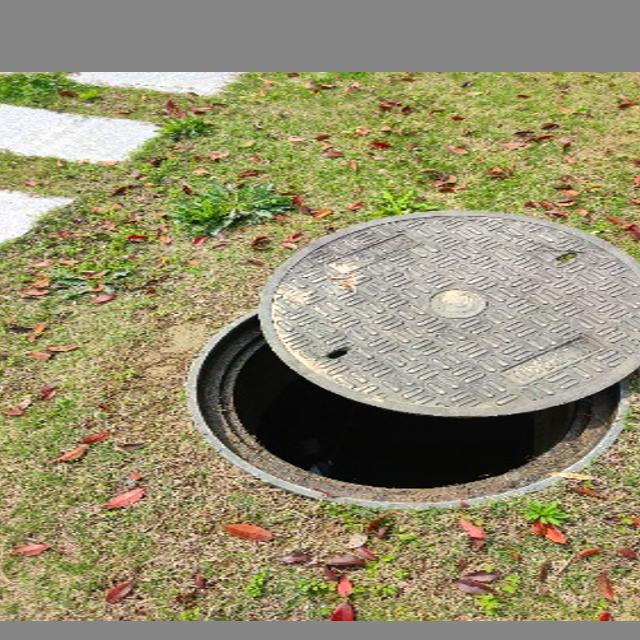uncovered: (186, 210, 640, 507)
